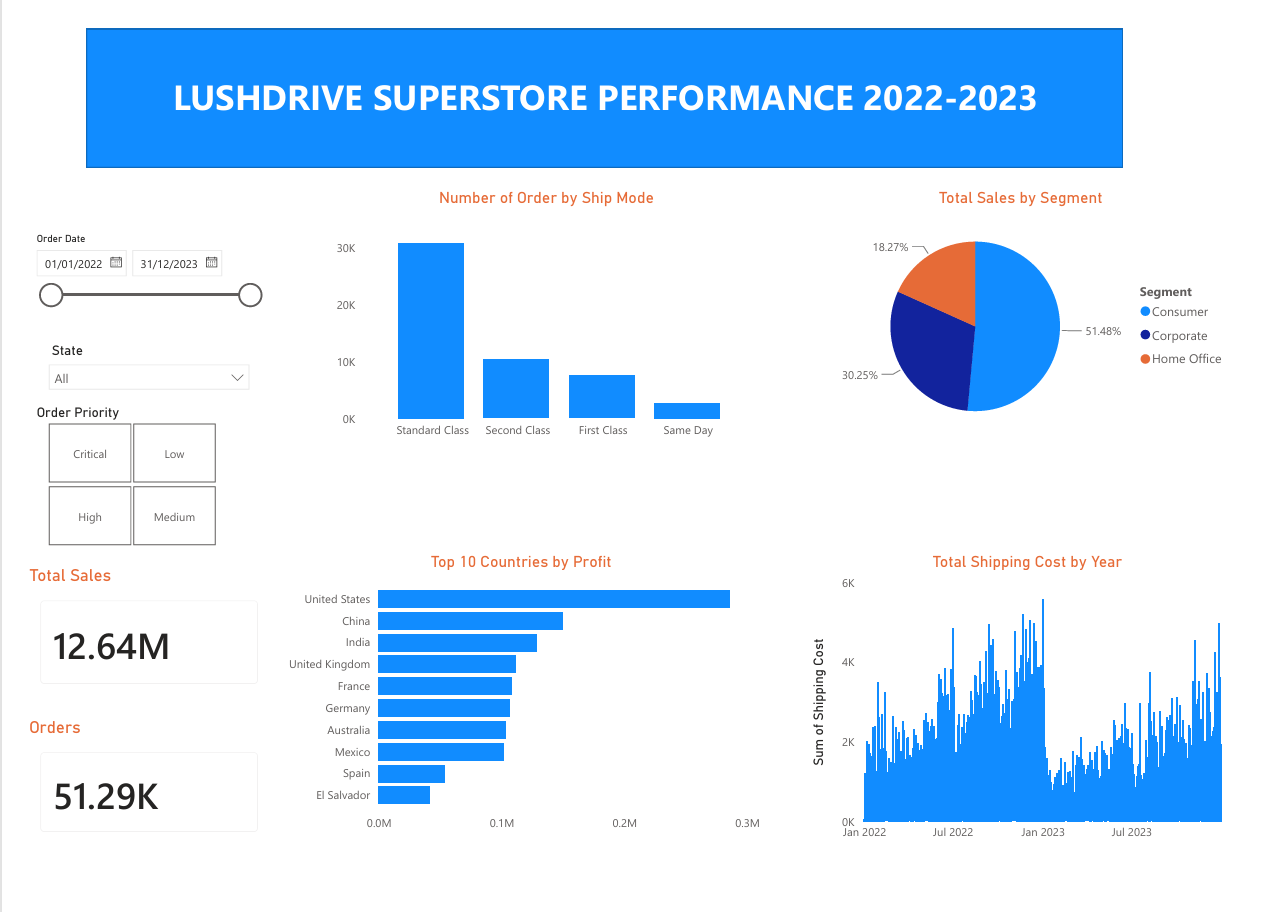

This screenshot's page, from the dashboard's own definition file:
{"tool":"powerbi","page":{"name":"Lush Superstore","canvas":[1320,1000],"ordinal":0},"visuals":[{"type":"shape","box":[66,72,1106,148],"z":0},{"type":"textbox","box":[136,114,968,64],"z":1000},{"type":"pieChart","title":"Total Sales by Segment","fields":{"Category":["Orders.Segment"],"Y":["Sum(Orders.Sales)"]},"box":[834,242,458,276],"z":2000},{"type":"columnChart","title":"Number of Order by Ship Mode","fields":{"Category":["Orders.Ship Mode"],"Y":["CountNonNull(Orders.Order ID)"]},"box":[328,242,458,276],"z":3000},{"type":"clusteredBarChart","title":"Top 10 Countries by Profit","fields":{"Category":["Orders.Country"],"Y":["Sum(Orders.Profit)"]},"box":[270,630,520,308],"z":4000},{"type":"lineClusteredColumnComboChart","title":"Total Shipping Cost by Year","fields":{"Category":["Orders.Ship Date"],"Y":["Sum(Orders.Shipping Cost)"]},"box":[834,630,472,318],"z":5000},{"type":"cardVisual","title":"Total Sales","fields":{"Data":["Sum(Orders.Sales)"]},"box":[0,644,266,146],"z":6000},{"type":"cardVisual","title":"Orders","fields":{"Data":["CountNonNull(Orders.Order ID)"]},"box":[0,806,266,142],"z":7000},{"type":"slicer","fields":{"Values":["Orders.State"]},"box":[16,402,234,66],"z":8000},{"type":"slicer","fields":{"Values":["Orders.Order Priority"]},"box":[0,468,228,162],"z":9000},{"type":"slicer","fields":{"Values":["Orders.Order Date"]},"box":[0,284,262,96],"z":10000}]}

Visuals, with their boxes on the page's 1320x1000 design canvas (x1, y1, x2, y2). These are canvas units, not pixel positions in the 1277x912 screenshot, which may show the page scaled, cropped or inside an application window:
shape: bbox(66, 72, 1172, 220)
textbox: bbox(136, 114, 1104, 178)
"Total Sales by Segment" pieChart: bbox(834, 242, 1292, 518)
"Number of Order by Ship Mode" columnChart: bbox(328, 242, 786, 518)
"Top 10 Countries by Profit" clusteredBarChart: bbox(270, 630, 790, 938)
"Total Shipping Cost by Year" lineClusteredColumnComboChart: bbox(834, 630, 1306, 948)
"Total Sales" cardVisual: bbox(0, 644, 266, 790)
"Orders" cardVisual: bbox(0, 806, 266, 948)
slicer - Orders.State: bbox(16, 402, 250, 468)
slicer - Orders.Order Priority: bbox(0, 468, 228, 630)
slicer - Orders.Order Date: bbox(0, 284, 262, 380)
